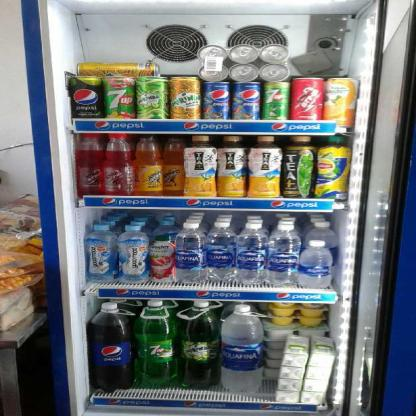7up: (101, 75, 136, 119), (258, 80, 289, 122)
7up-chai: (133, 300, 177, 390)
another: (314, 135, 352, 199)
aquafina: (219, 303, 267, 397), (231, 221, 267, 290), (172, 221, 208, 287), (266, 220, 299, 286), (207, 219, 235, 286)
goodmood: (81, 223, 117, 285), (115, 223, 150, 286)
mirinda-sodakem: (132, 74, 169, 121), (167, 75, 204, 122)
mirinda-sodakem-chai: (176, 300, 219, 391)
olong-tea: (280, 136, 312, 198)
olong-teaplus: (180, 134, 216, 198), (213, 134, 247, 196), (246, 136, 280, 198)
pepsi-blue: (201, 80, 232, 121), (230, 80, 260, 120)
pepsi-blue-chai: (87, 302, 135, 394)
pepsi-chanhmuoi: (64, 73, 105, 120)
string-red: (290, 76, 324, 118)
string-red-chai: (100, 133, 132, 196), (74, 134, 105, 196)
string-yellow-chai: (129, 131, 163, 198)
twister-cam-lon: (323, 75, 358, 124)
twister-dau: (147, 233, 177, 283)
